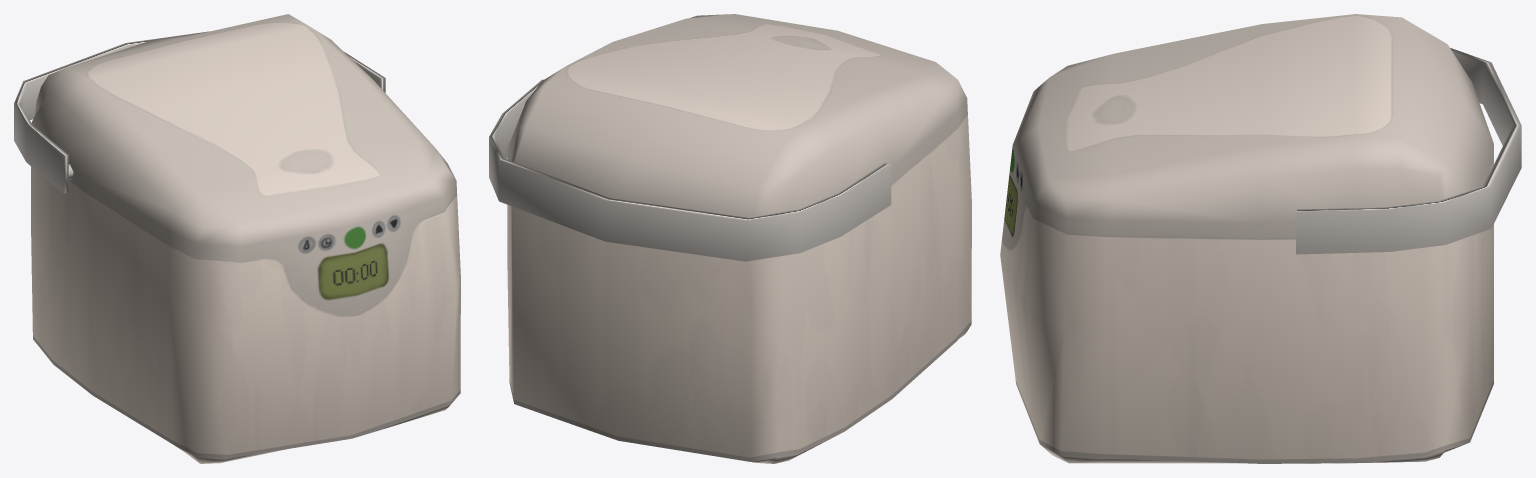
File: Rice_cooker 2.fbx
3 renders of one model, left to right at view 1: azimuth 30°, elevation 25°; view 2: azimuth 150°, elevation 25°; view 3: azimuth 270°, elevation 25°, orthographic. The views are drawn at different scales.
Parts seen in each view (by area): view 1: polySurface2; view 2: polySurface2; view 3: polySurface2.
Boxes of the visible parts, box(x1,y1,x2,y2) form: polySurface2: box(14, 14, 460, 463); polySurface2: box(489, 14, 971, 463); polySurface2: box(1000, 14, 1521, 463).
Bounding box in the file's own units: 0.3884 × 0.331 × 0.4863.
4 materials, 3 textured.
